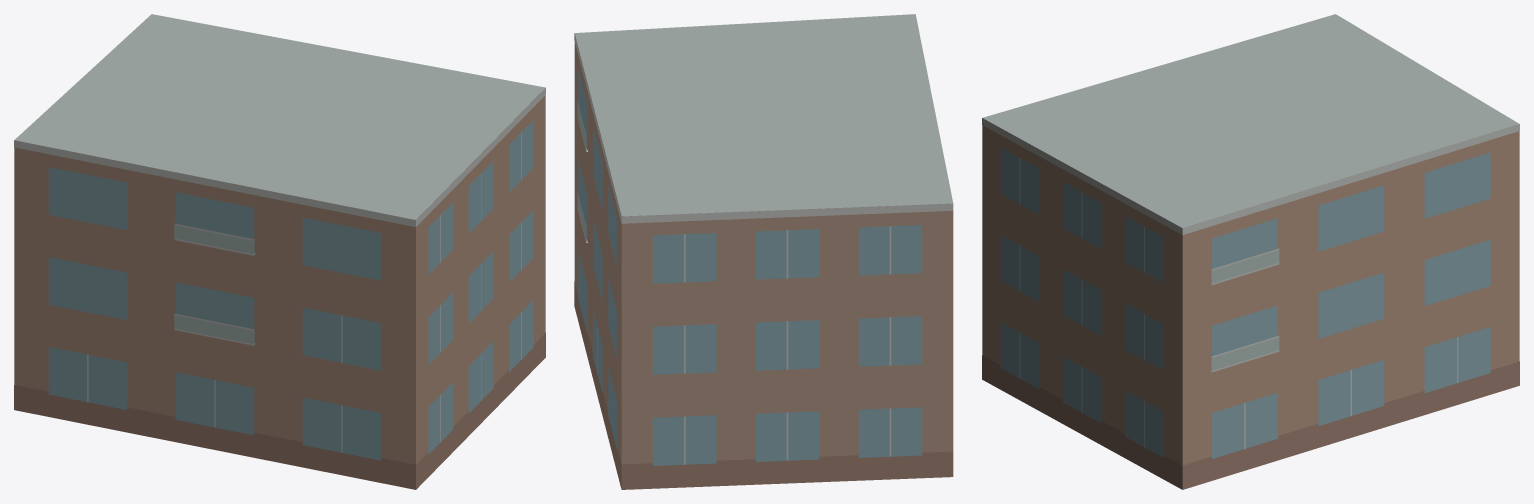
File: survey-upis-32823715.glb
3 views of the same model, side by side, from view 1: azimuth 30°, elevation 25°; view 2: azimuth 150°, elevation 25°; view 3: azimuth 270°, elevation 25° (orthographic). The views are drawn at different scales.
Visible parts, largest first — view 1: survey-upis-32823715.tmp; view 2: survey-upis-32823715.tmp; view 3: survey-upis-32823715.tmp.
Part boxes in pixels (x1,y1,x2,y2): survey-upis-32823715.tmp: (14,14,545,489); survey-upis-32823715.tmp: (574,14,953,489); survey-upis-32823715.tmp: (982,14,1519,489).
Size of the model in its own units: 16.07 by 9.15 by 17.05.
